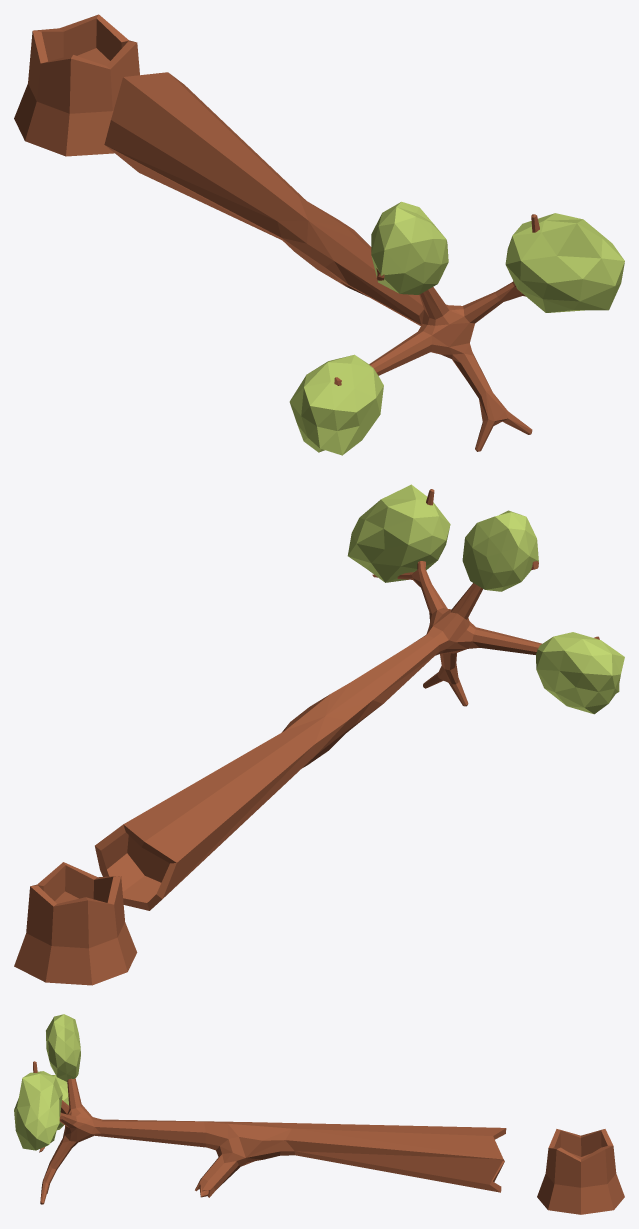
Rendered from MammutTree_3 Broken.fbx.
3 renders of one model, top to bottom at view 1: azimuth 30°, elevation 25°; view 2: azimuth 150°, elevation 25°; view 3: azimuth 270°, elevation 25°, orthographic. The views are drawn at different scales.
Visible parts, largest first — view 1: MammutTree3Broken_mesh; view 2: MammutTree3Broken_mesh; view 3: MammutTree3Broken_mesh.
Part boxes in pixels (x1=…): MammutTree3Broken_mesh: x1=14, y1=14, x2=624, y2=455; MammutTree3Broken_mesh: x1=14, y1=484, x2=624, y2=985; MammutTree3Broken_mesh: x1=14, y1=1014, x2=624, y2=1214.
Size of the model in its own units: 905 by 706 by 2373.
